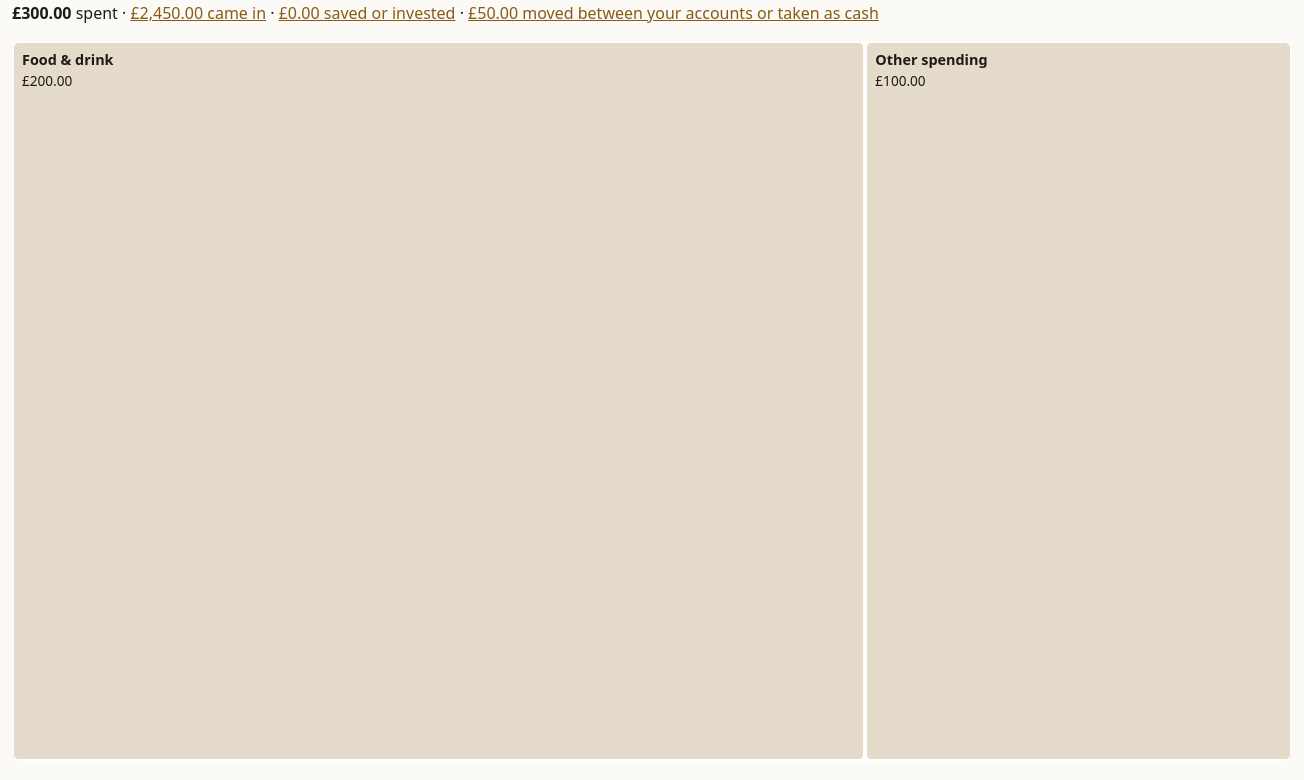
Test: explains a decision in the Why panel
The width and height of the screenshot is (1304, 780).
(page scrolled)
Click the button with aria-label "Other spending, £100.00" at coordinates (1079, 401), box [865,41,1292,761]
(page scrolled)
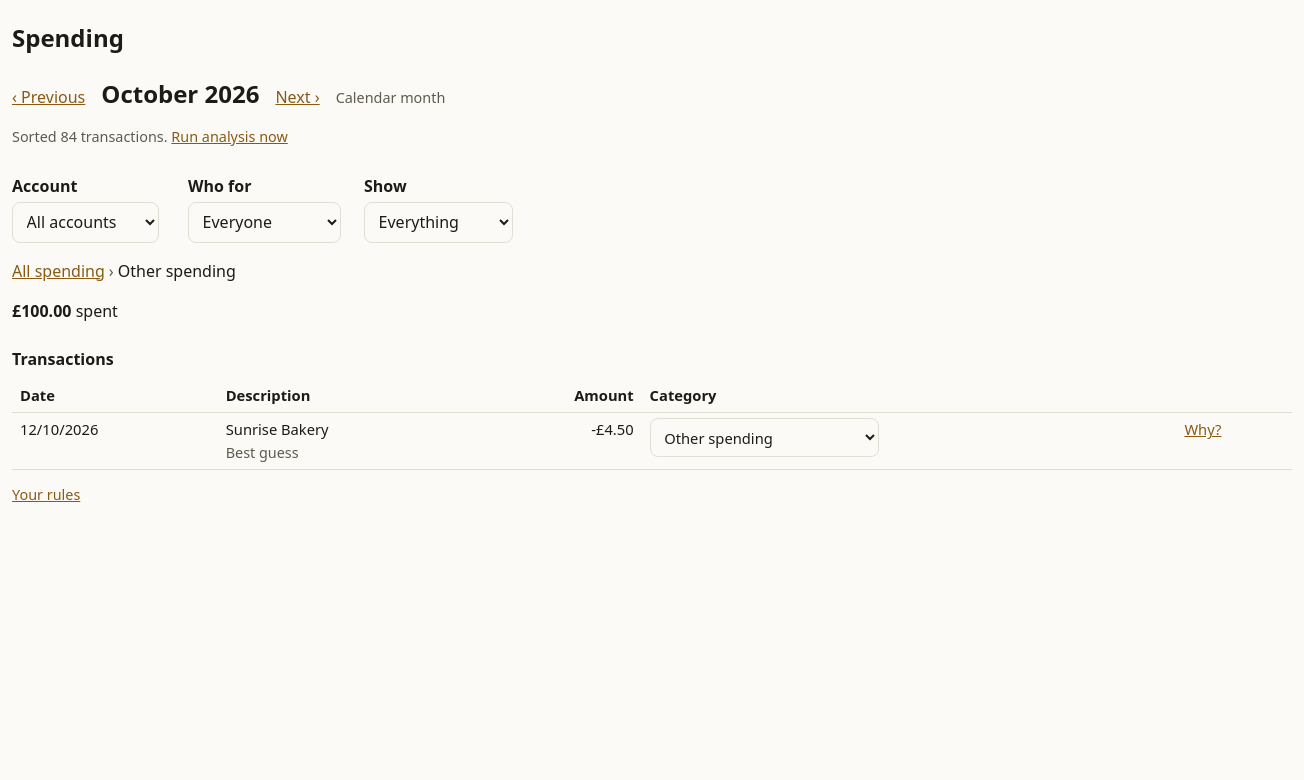
Click the button with aria-label "Why? Sunrise Bakery on 12/10/2026" at coordinates (1203, 429), box [1184,418,1221,440]
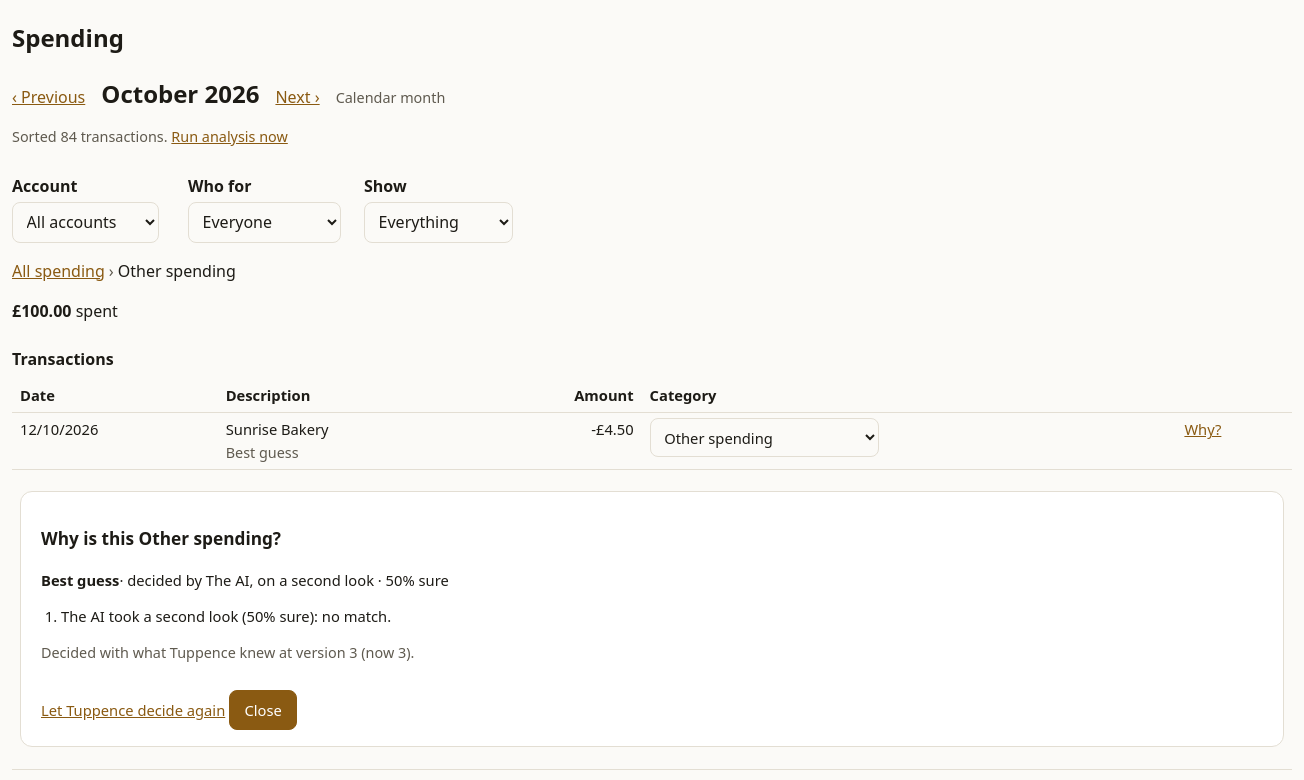
Expected: the list item "The AI took a second look (50% sure): no match." is shown, [61,606,391,626]
Expected: the text "Best guess· decided by The AI, on a second look · 50% sure" is shown, [41,570,449,590]
